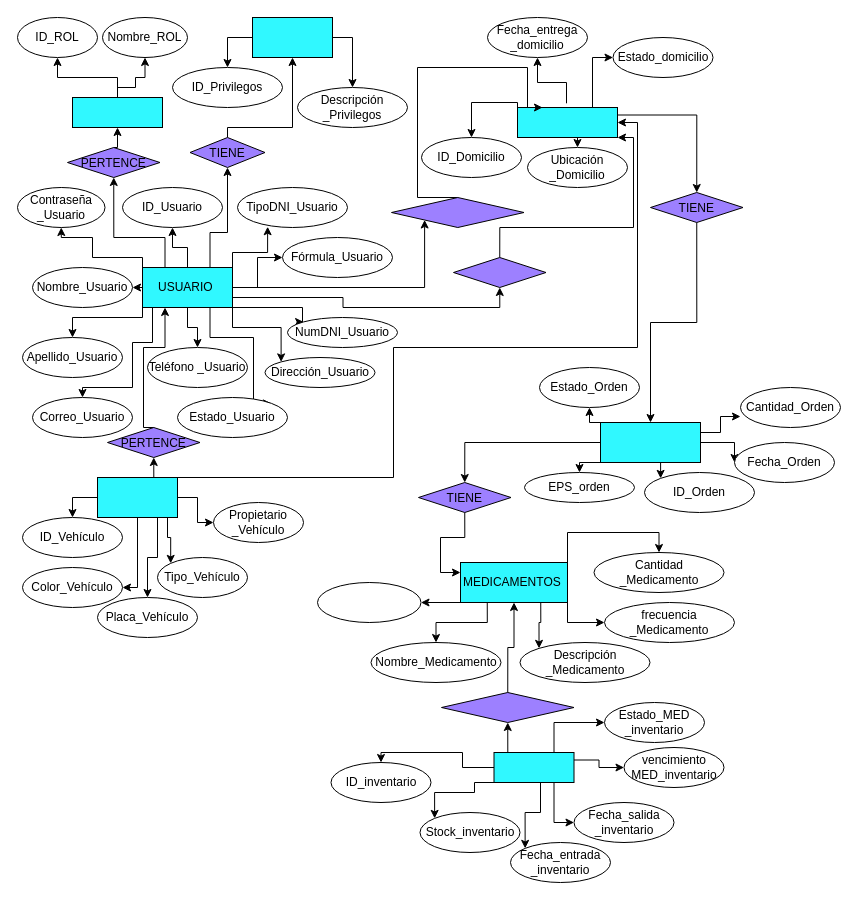
Some shapes in this 858 by 900 pixel diagram are drawn without their labels. The shapes that lost their labels are listed below. From the top down, each one's centre as x and y in pixels, then its label:
At point (292, 37): "PRIVILEGIOS".
At point (117, 112): "ROLES".
At point (567, 122): "DOMICILIO".
At point (457, 212): "DOMICILIARIO".
At point (499, 272): "PACIENTE".
At point (650, 442): "ORDENES".
At point (137, 497): "Vehículo".
At point (368, 602): "ID_Medicamento".
At point (507, 707): "SUMINISTRA".
At point (533, 767): "INVENTARIO".
